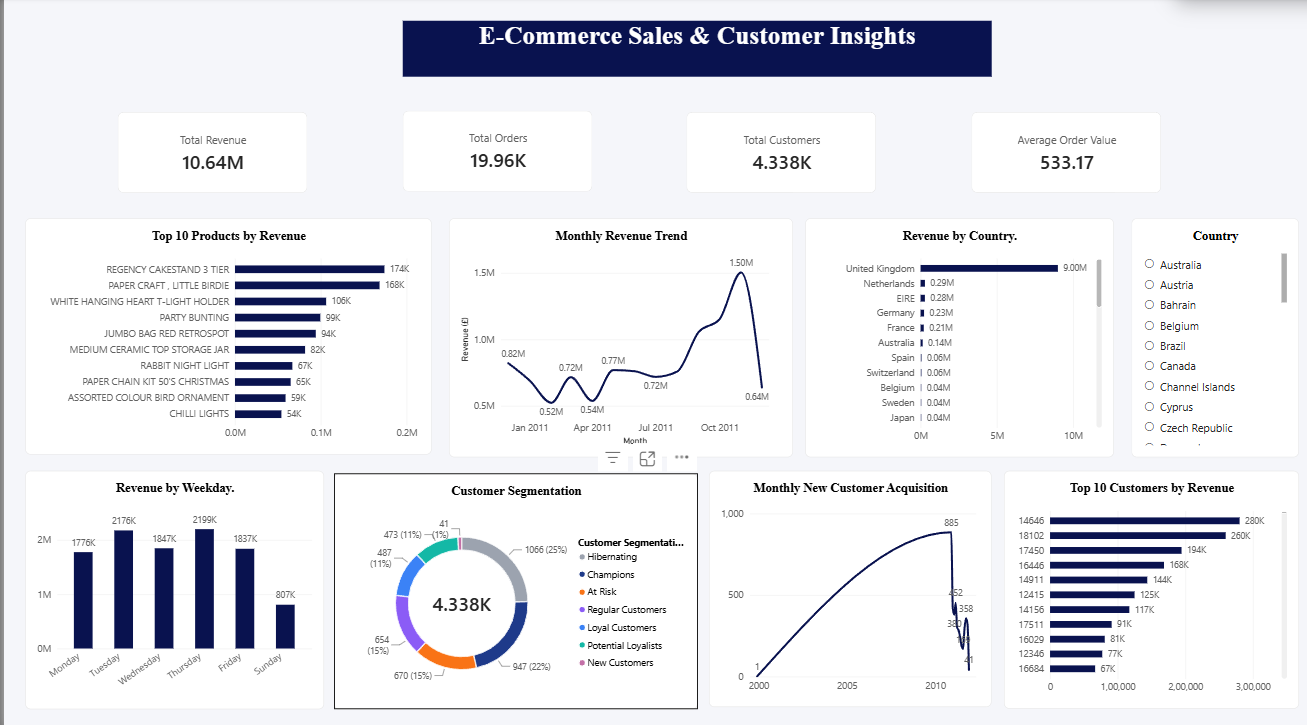

Layout of this report page (visuals, bound fields, positions):
{"tool":"powerbi","page":{"name":"Sales & Customer Insights","canvas":[1920,1080],"ordinal":0},"visuals":[{"type":"cardVisual","fields":{"Data":["Sum(public online_retail.revenue)"]},"box":[166.7,168.8,279.9,119.4],"z":0},{"type":"cardVisual","fields":{"Data":["Count(public online_retail.invoice_no)"]},"box":[587.5,167.5,279.9,119.4],"z":1000},{"type":"cardVisual","fields":{"Data":["Count(public online_retail.customer_id)"]},"box":[1004.5,168.8,279.9,119.4],"z":2000},{"type":"cardVisual","fields":{"Data":["public online_retail.Average Order Value"]},"box":[1424.4,168.8,279.9,119.4],"z":3000},{"type":"lineChart","title":"Monthly Revenue Trend","fields":{"Category":["public online_retail.invoice_date.Variation.Date Hierarchy.Year","public online_retail.invoice_date.Variation.Date Hierarchy.Month"],"Y":["Sum(public online_retail.revenue)"]},"box":[655.2,325.8,506,352],"z":4000},{"type":"clusteredBarChart","title":"Top 10 Products by Revenue","fields":{"Category":["public online_retail.description"],"Y":["Sum(public online_retail.revenue)"]},"box":[31.3,325.8,598,348],"z":5000},{"type":"clusteredBarChart","title":"Revenue by Country.","fields":{"Category":["public online_retail.country"],"Y":["Sum(public online_retail.revenue)"]},"box":[1180,326,454,352],"z":6000},{"type":"donutChart","title":"Customer Segmentation","fields":{"Category":["public customer_segments.customer_segment"],"Y":["CountNonNull(public customer_segments.customer_id)"]},"box":[485.9,701.2,535.6,347.9],"z":7000},{"type":"clusteredBarChart","title":"Top 10 Customers by Revenue","fields":{"Category":["public online_retail.customer_id"],"Y":["Sum(public online_retail.revenue)"]},"box":[1472.4,697.5,434,350],"z":8000},{"type":"lineChart","title":"Monthly New Customer Acquisition","fields":{"Category":["public online_retail.Acquisition Month"],"Y":["Count(public online_retail.customer_id)"]},"box":[1038,697.5,416,347.9],"z":9000},{"type":"clusteredColumnChart","title":"Revenue by Weekday.","fields":{"Category":["public online_retail.Weekday"],"Y":["Sum(public online_retail.revenue)"]},"box":[31.3,697.5,439.9,351.5],"z":10000},{"type":"listSlicer","title":"Country","fields":{"Values":["public online_retail.country"]},"box":[1660,326,246,352],"z":11000},{"type":"textbox","box":[587.5,35,867.5,82.5],"z":12000}]}

Visuals, with their boxes in screenshot pixels (x1, y1, x2, y2), scaled from the page's 1920x1080 canvas onto the 1307x725 screenshot:
cardVisual - Sum(public online_retail.revenue): detection(113, 113, 304, 193)
cardVisual - Count(public online_retail.invoice_no): detection(400, 112, 590, 193)
cardVisual - Count(public online_retail.customer_id): detection(684, 113, 874, 193)
cardVisual - public online_retail.Average Order Value: detection(970, 113, 1160, 193)
"Monthly Revenue Trend" lineChart: detection(446, 219, 790, 455)
"Top 10 Products by Revenue" clusteredBarChart: detection(21, 219, 428, 452)
"Revenue by Country." clusteredBarChart: detection(803, 219, 1112, 455)
"Customer Segmentation" donutChart: detection(331, 471, 695, 704)
"Top 10 Customers by Revenue" clusteredBarChart: detection(1002, 468, 1298, 703)
"Monthly New Customer Acquisition" lineChart: detection(707, 468, 990, 702)
"Revenue by Weekday." clusteredColumnChart: detection(21, 468, 321, 704)
"Country" listSlicer: detection(1130, 219, 1297, 455)
textbox: detection(400, 23, 990, 79)
